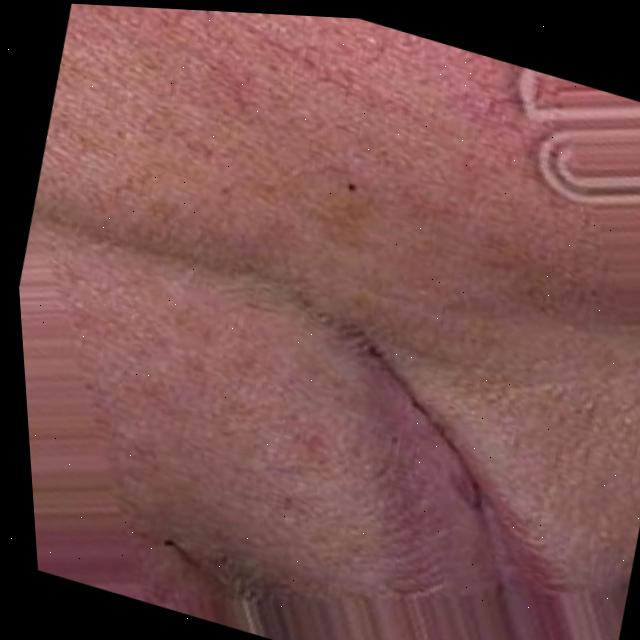Rosacea: (63, 3, 526, 163)
